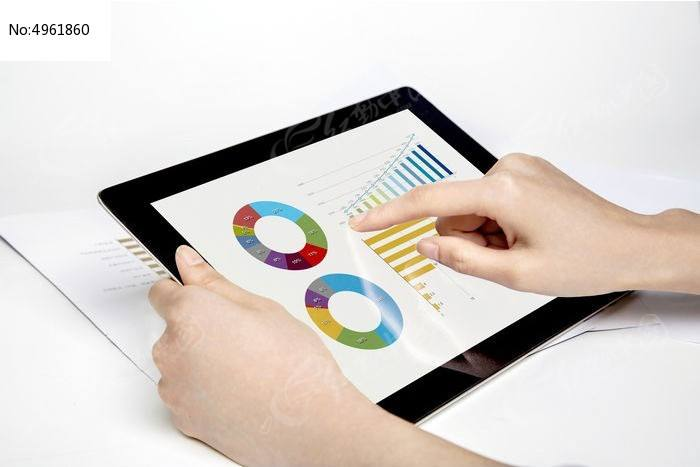pad: (67, 81, 641, 447)
